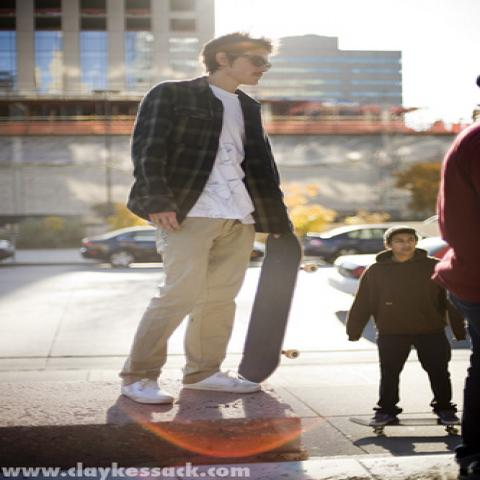car: (79, 223, 266, 269), (305, 223, 390, 261), (326, 249, 386, 293), (0, 235, 17, 263)
